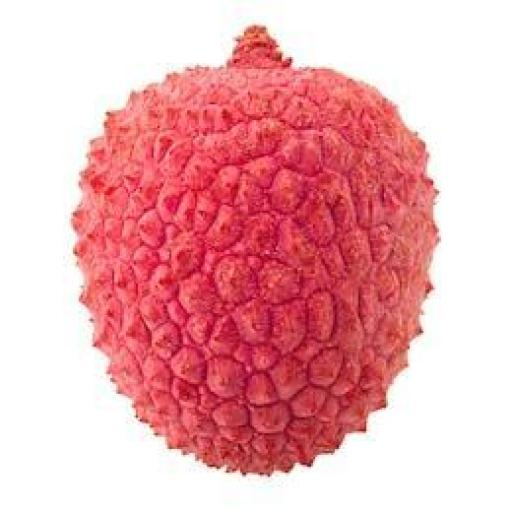lychee: (73, 26, 437, 472)
